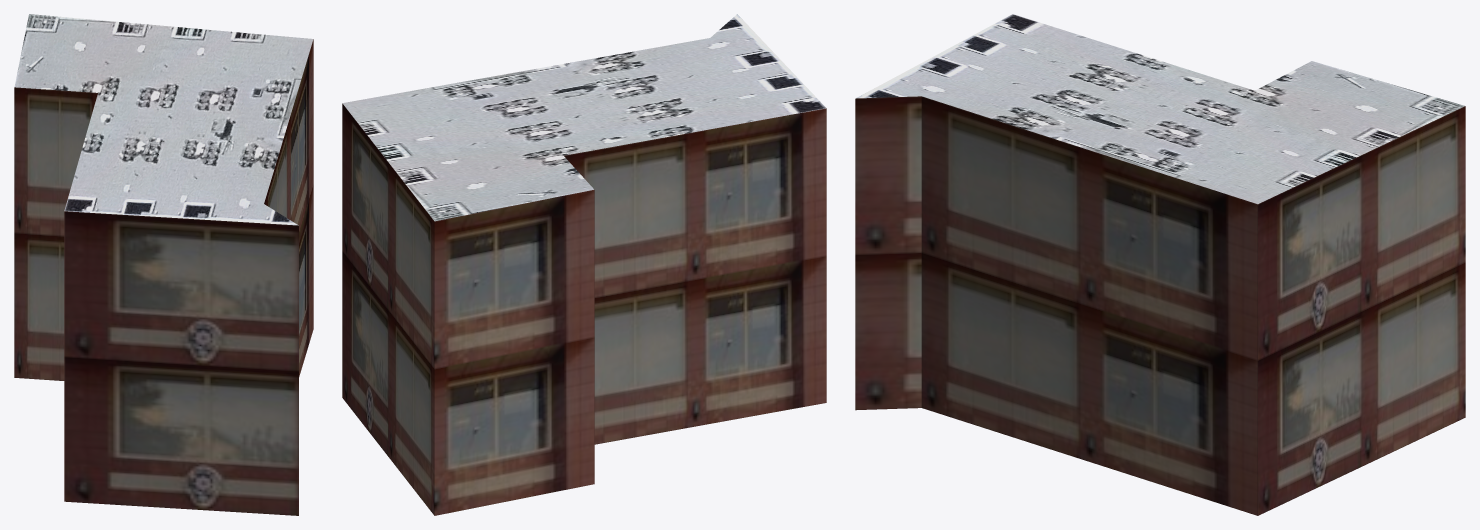
The model's file is ResTex__4348.fbx.
3 views of the same model, side by side, from view 1: azimuth 30°, elevation 25°; view 2: azimuth 150°, elevation 25°; view 3: azimuth 270°, elevation 25° (orthographic). The views are drawn at different scales.
Parts seen in each view (by area): view 1: CityEngineMaterial_13_m, CityEngineMaterial_8_m; view 2: CityEngineMaterial_13_m, CityEngineMaterial_8_m; view 3: CityEngineMaterial_13_m, CityEngineMaterial_8_m.
Boxes of the visible parts, left/top/right/bottom form: CityEngineMaterial_13_m: left=14, top=39, right=313, bottom=515; CityEngineMaterial_8_m: left=14, top=14, right=313, bottom=225; CityEngineMaterial_13_m: left=342, top=103, right=826, bottom=515; CityEngineMaterial_8_m: left=342, top=14, right=826, bottom=221; CityEngineMaterial_13_m: left=855, top=96, right=1465, bottom=515; CityEngineMaterial_8_m: left=856, top=14, right=1464, bottom=204.
Bounding box in the file's own units: 7.86 × 6 × 10.64.
Materials: 2 (2 with a texture image).
